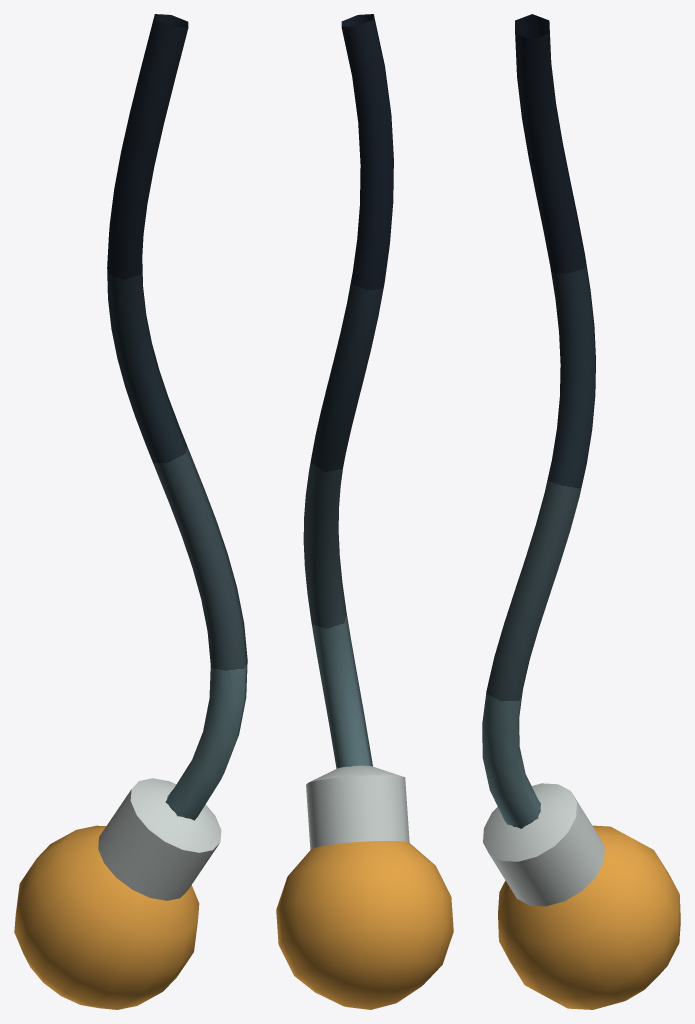
Rendered from Lamp.fbx.
The picture shows the model from 3 angles, left to right: view 1: azimuth 30°, elevation 25°; view 2: azimuth 150°, elevation 25°; view 3: azimuth 270°, elevation 25°; orthographic projection. The views are drawn at different scales.
Visible parts, largest first — view 1: Lamp; view 2: Lamp; view 3: Lamp.
Boxes of the visible parts, left/top/right/bottom form: Lamp: left=14, top=14, right=247, bottom=1009; Lamp: left=276, top=14, right=453, bottom=1009; Lamp: left=482, top=14, right=680, bottom=1009.
Bounding box in the file's own units: 93.27 × 499 × 90.25.
